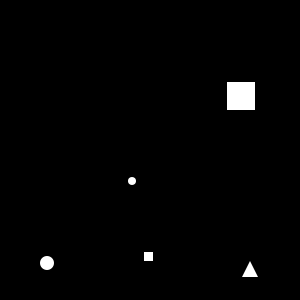circle: (227, 82, 255, 110), (144, 252, 153, 261)
rectangle: (40, 256, 54, 270), (128, 177, 136, 185)
triangle: (242, 261, 258, 277)
